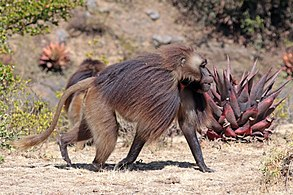Gelada: (66, 51, 212, 171)
